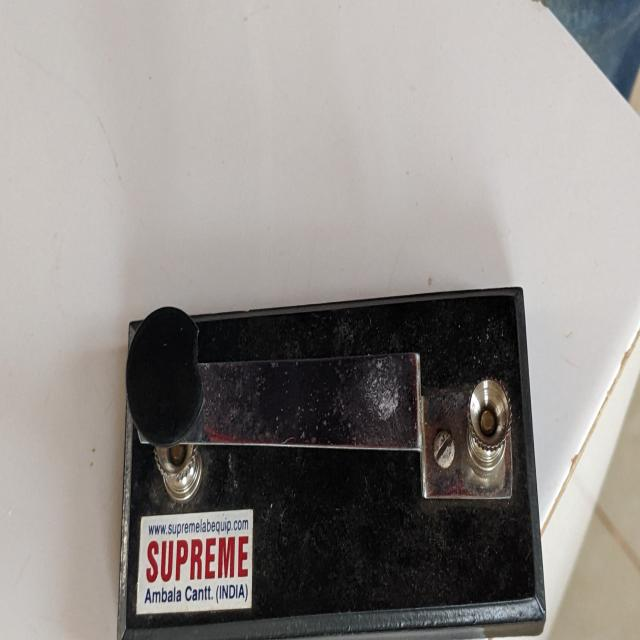Press Key: (111, 264, 569, 640)
